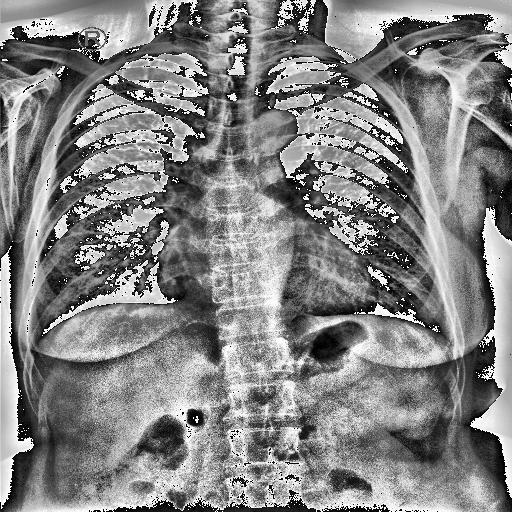0- Aortic enlargement: (248, 106, 300, 162), (244, 104, 298, 156), (250, 108, 300, 154)
3- Cardiomegaly: (152, 240, 378, 314)
